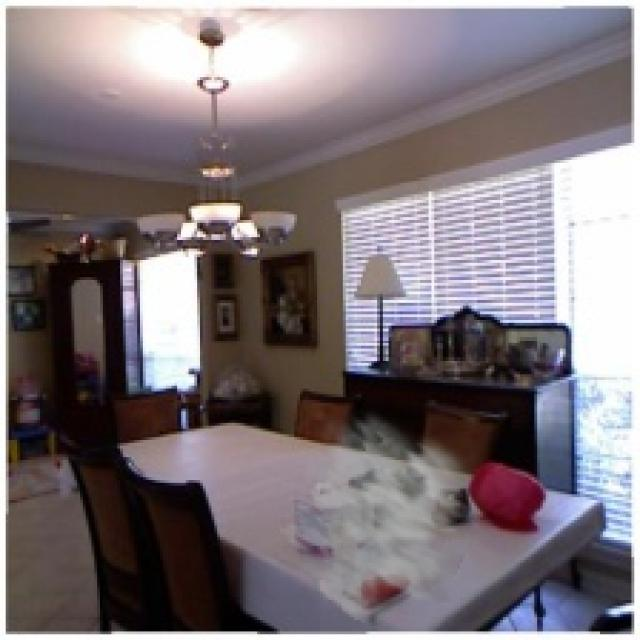smoke: (277, 403, 503, 634)
